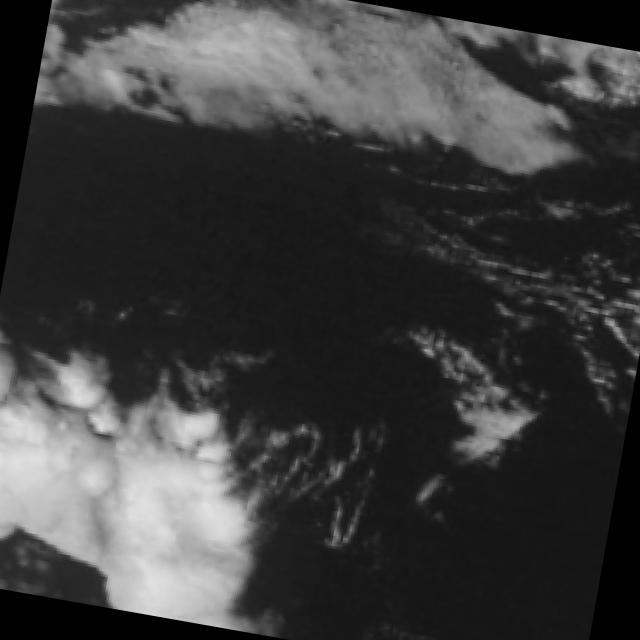CB: (0, 412, 235, 562)
